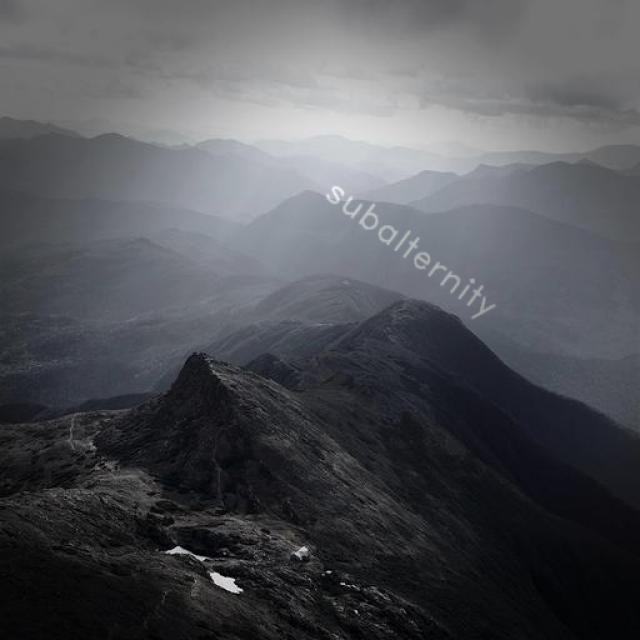watermark: (314, 169, 511, 325)
